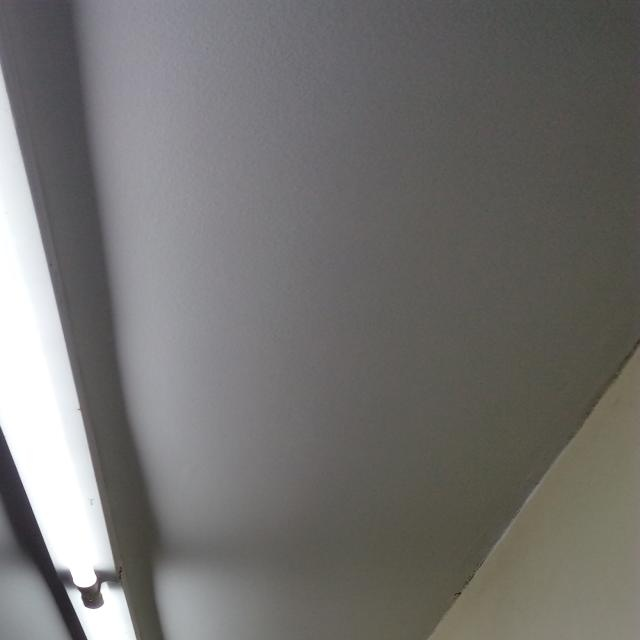fluorescent tube: (0, 0, 187, 617), (53, 560, 191, 640)
